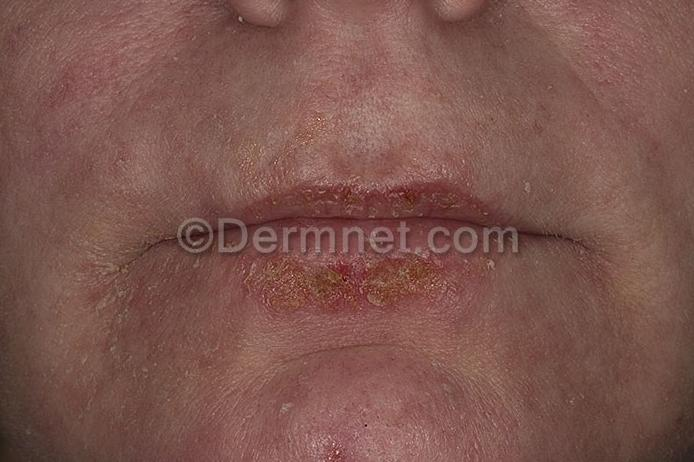eritema 1: (160, 351, 540, 462)
exudacion 1: (256, 186, 496, 215), (234, 112, 330, 183)
exudacion 2: (246, 255, 502, 323)
xerosis 1: (64, 219, 301, 409), (517, 173, 623, 299)
